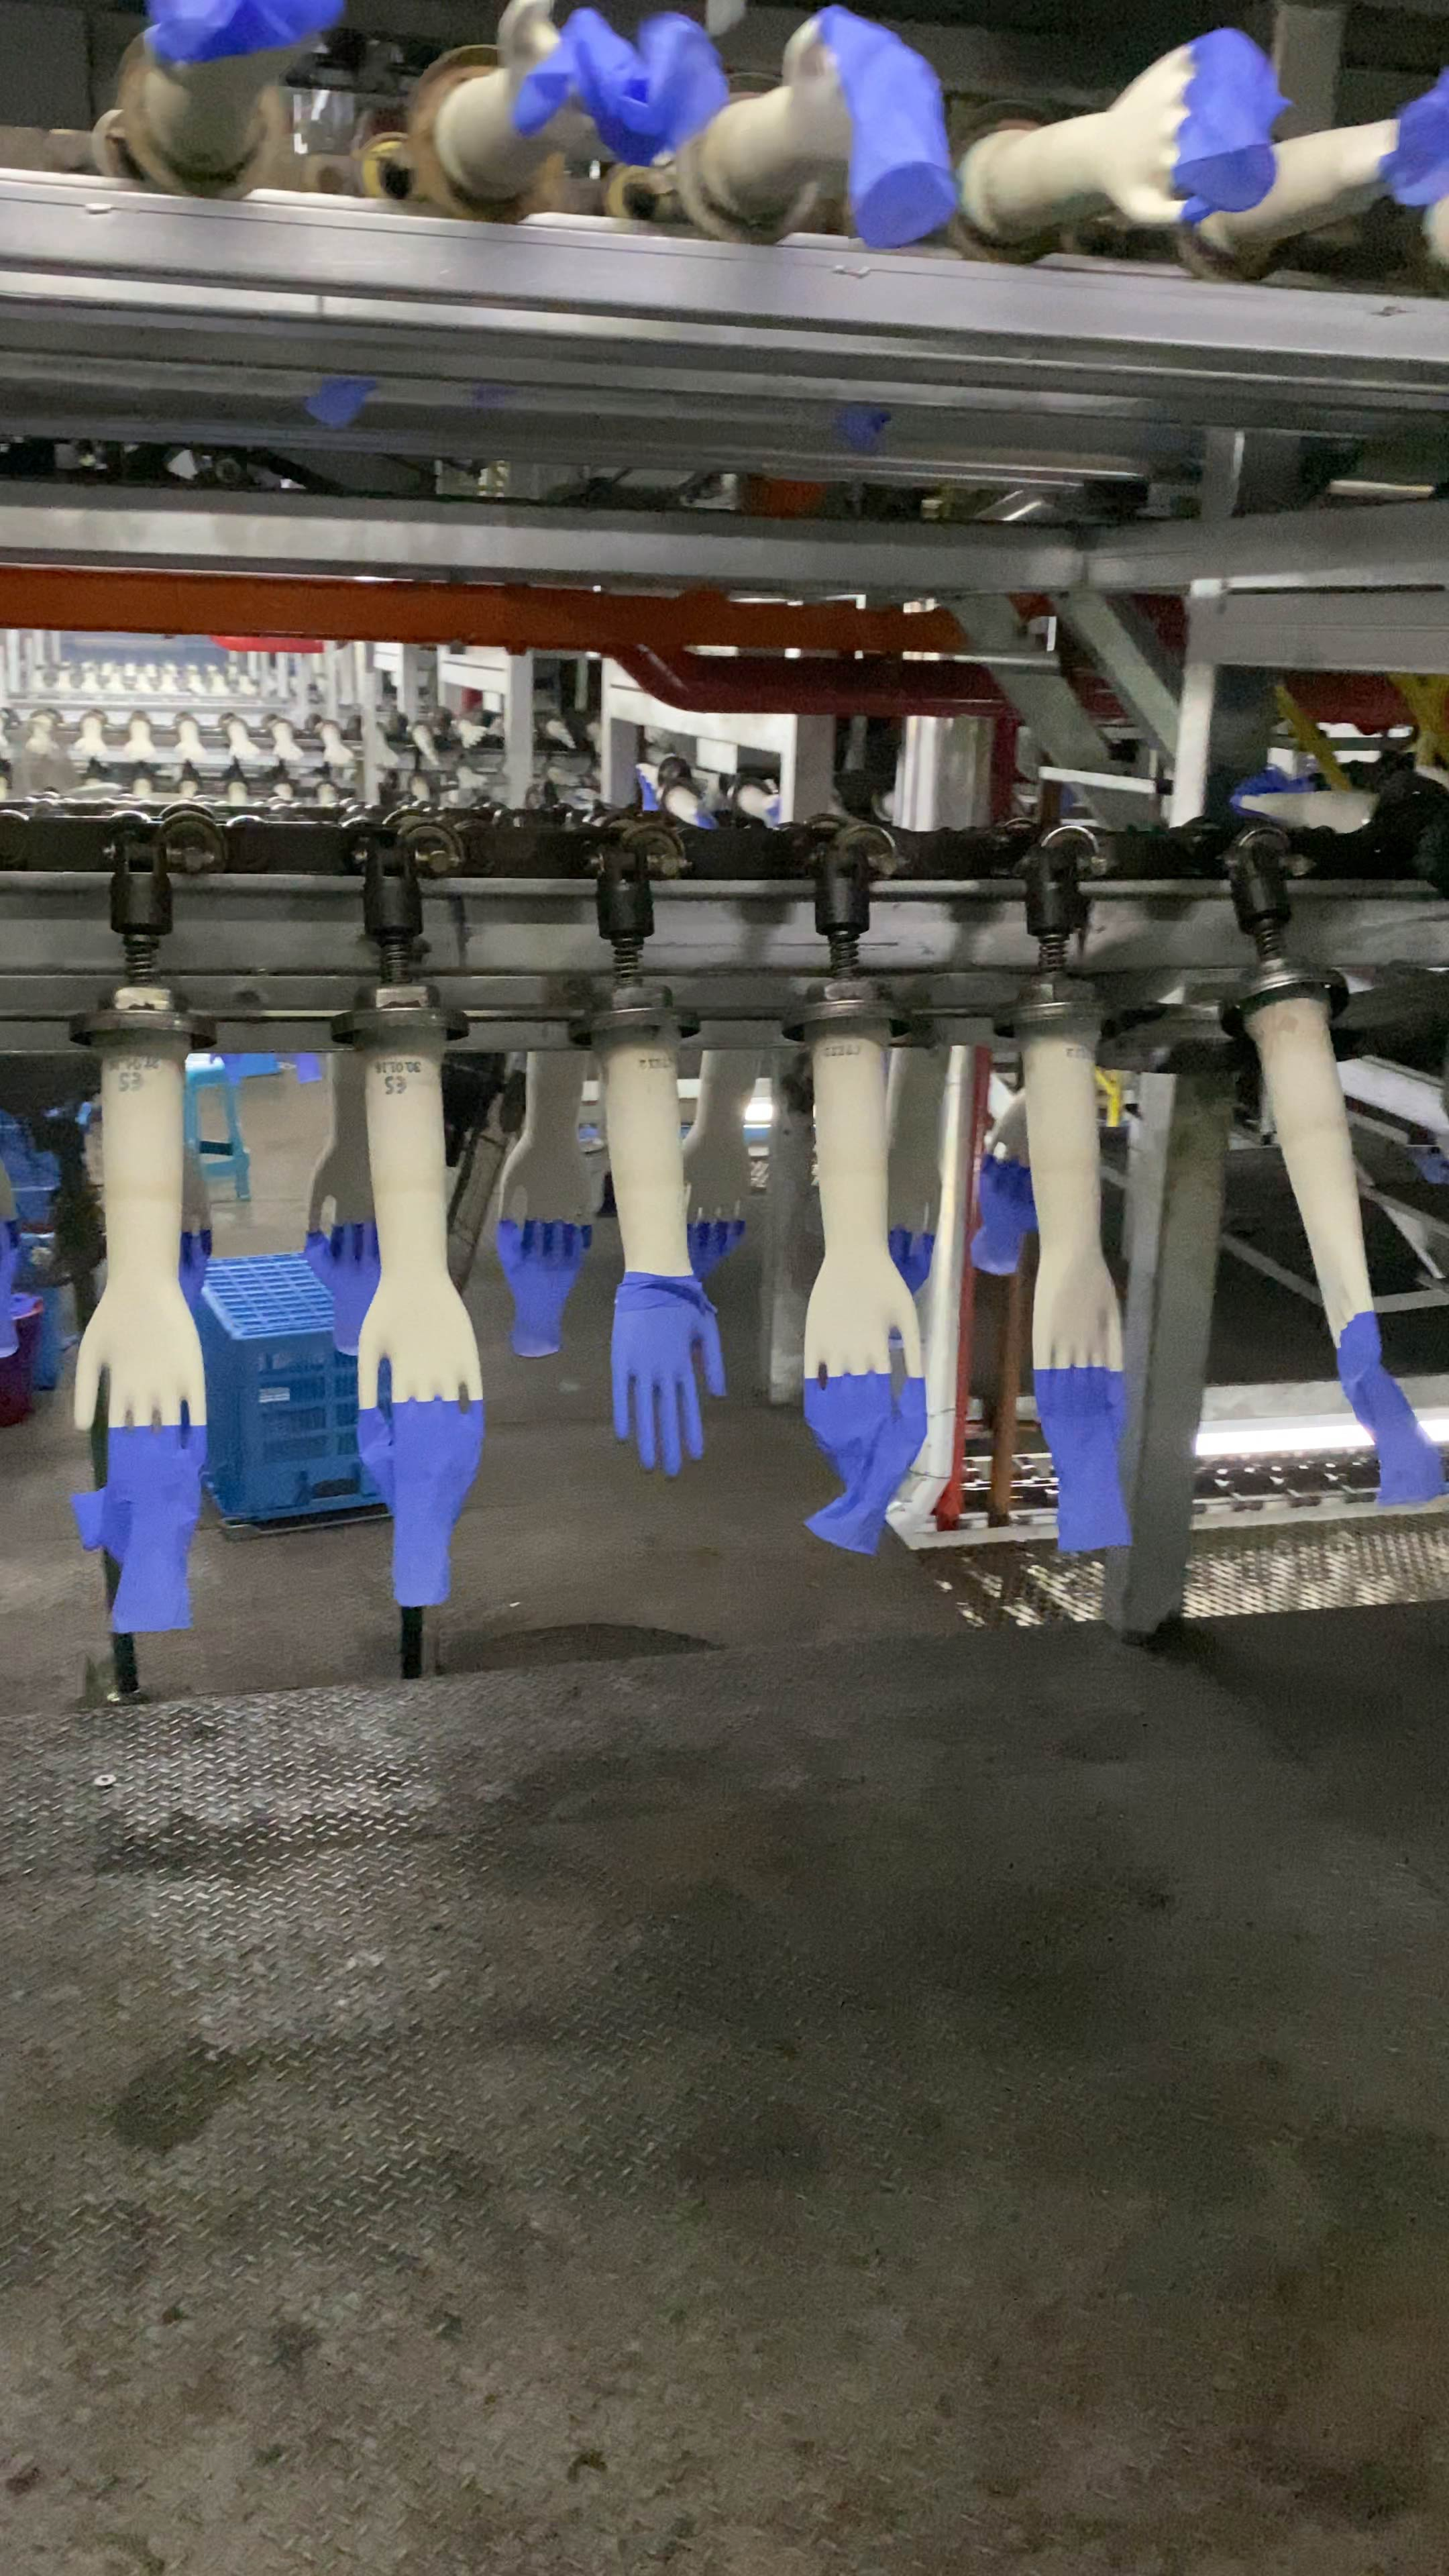glove: (511, 9, 727, 166), (821, 7, 955, 248), (74, 1424, 205, 1637), (354, 1401, 483, 1605), (607, 1276, 727, 1477), (803, 1375, 925, 1555), (1332, 1311, 1444, 1507), (1173, 30, 1284, 221), (1030, 1368, 1134, 1550), (492, 1221, 587, 1362), (145, 0, 347, 65), (304, 1223, 380, 1355), (1380, 67, 1449, 205), (964, 1157, 1035, 1274), (686, 1219, 743, 1279), (883, 1226, 932, 1286), (182, 1230, 212, 1304)
